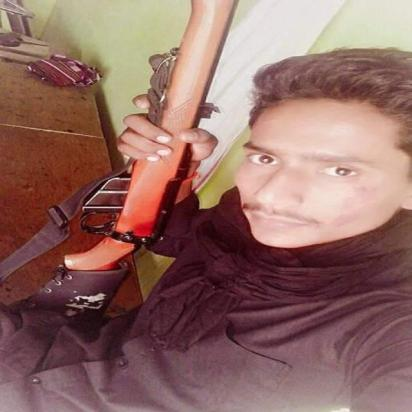Gun: (0, 0, 239, 325)
